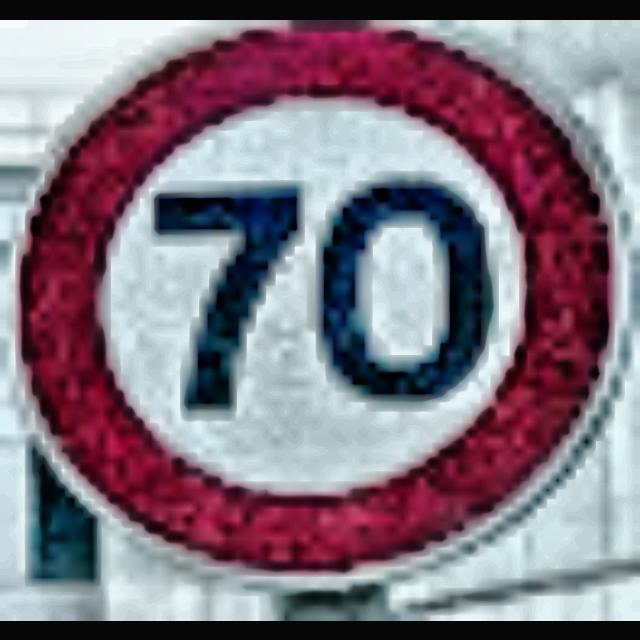speed_70: (0, 19, 640, 620)
